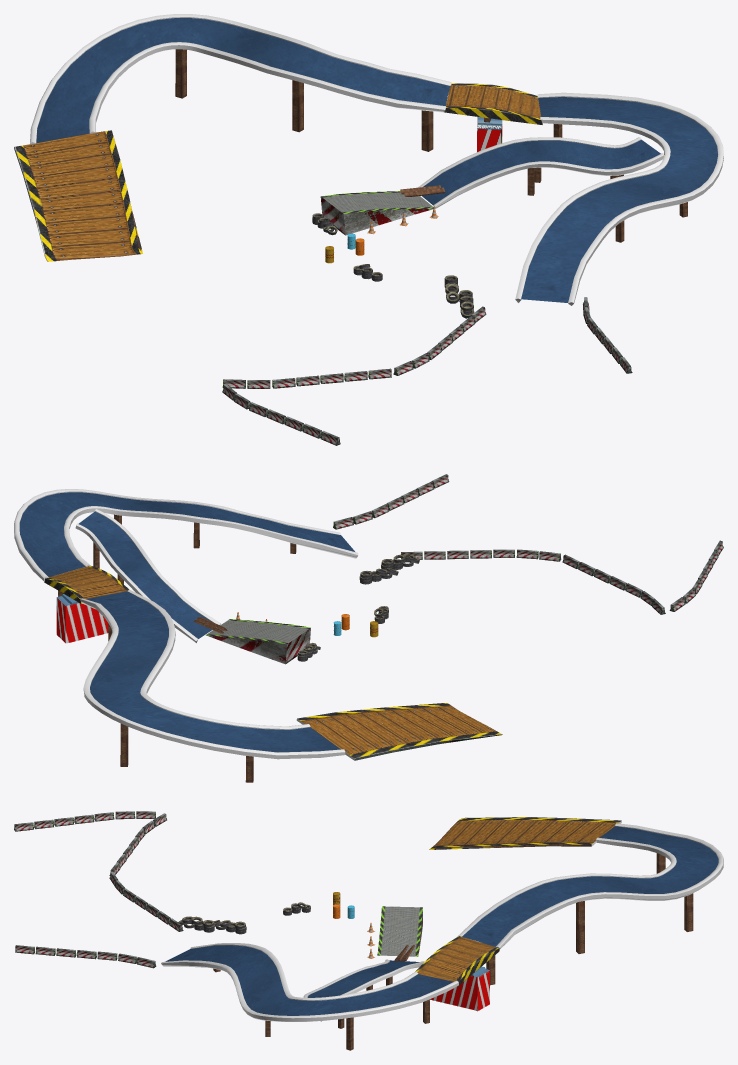
3 renders of one model, top to bottom at view 1: azimuth 30°, elevation 25°; view 2: azimuth 150°, elevation 25°; view 3: azimuth 270°, elevation 25°, orthographic. The views are drawn at different scales.
Visible parts, largest first — view 1: level_D; view 2: level_D; view 3: level_D.
Boxes of the visible parts, bbox=[...] form: level_D: bbox=[14, 14, 723, 445]; level_D: bbox=[14, 474, 723, 782]; level_D: bbox=[14, 811, 723, 1050].
Size of the model in its own units: 6033 by 799 by 7433.
